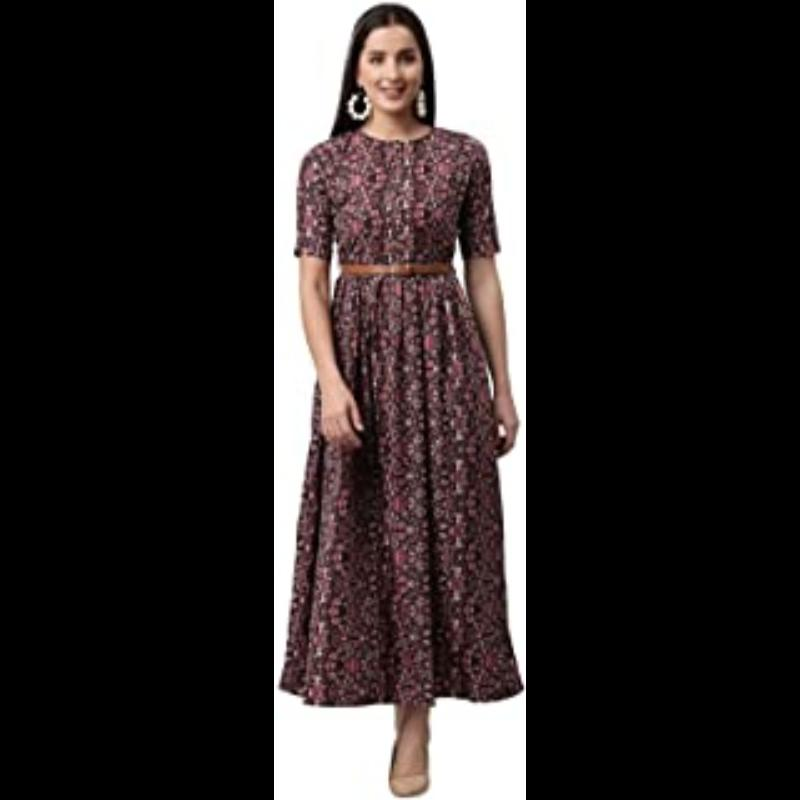Maxi: (280, 117, 516, 700)
